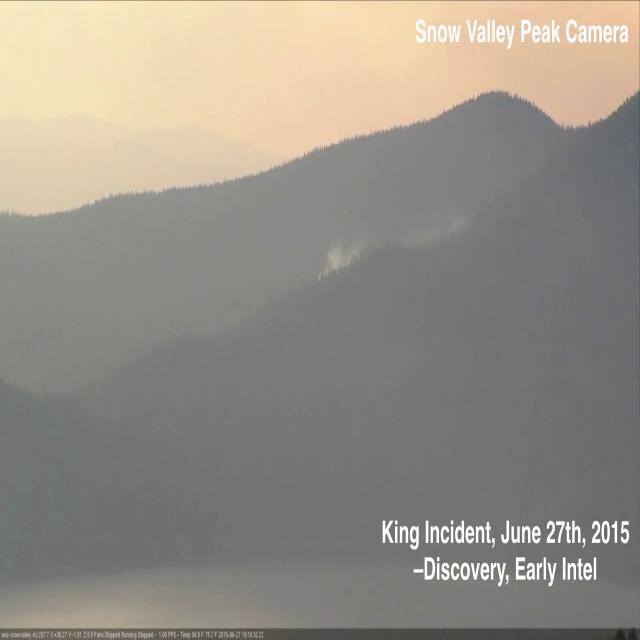smoke: (318, 197, 481, 283)
